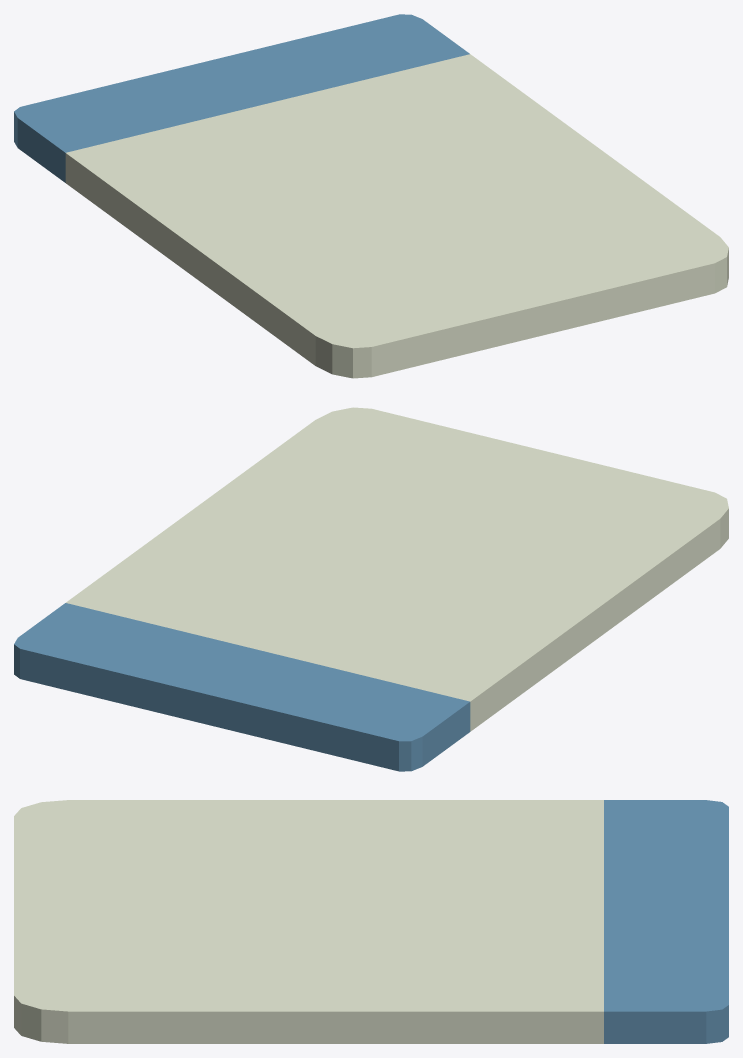
File: libreta.fbx
The picture shows the model from 3 angles, top to bottom: view 1: azimuth 30°, elevation 25°; view 2: azimuth 150°, elevation 25°; view 3: azimuth 270°, elevation 25°; orthographic projection. The views are drawn at different scales.
Parts seen in each view (by area): view 1: libreta; view 2: libreta; view 3: libreta.
Boxes of the visible parts, x1,y1,x2,y2 form: libreta: (14, 14, 728, 378); libreta: (14, 407, 728, 771); libreta: (14, 800, 728, 1043).
Bounding box in the file's own units: 7 × 10 × 0.5.
